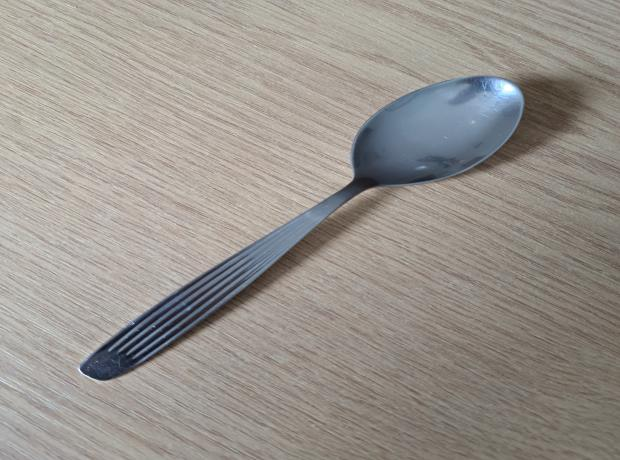metal: (77, 76, 523, 381)
